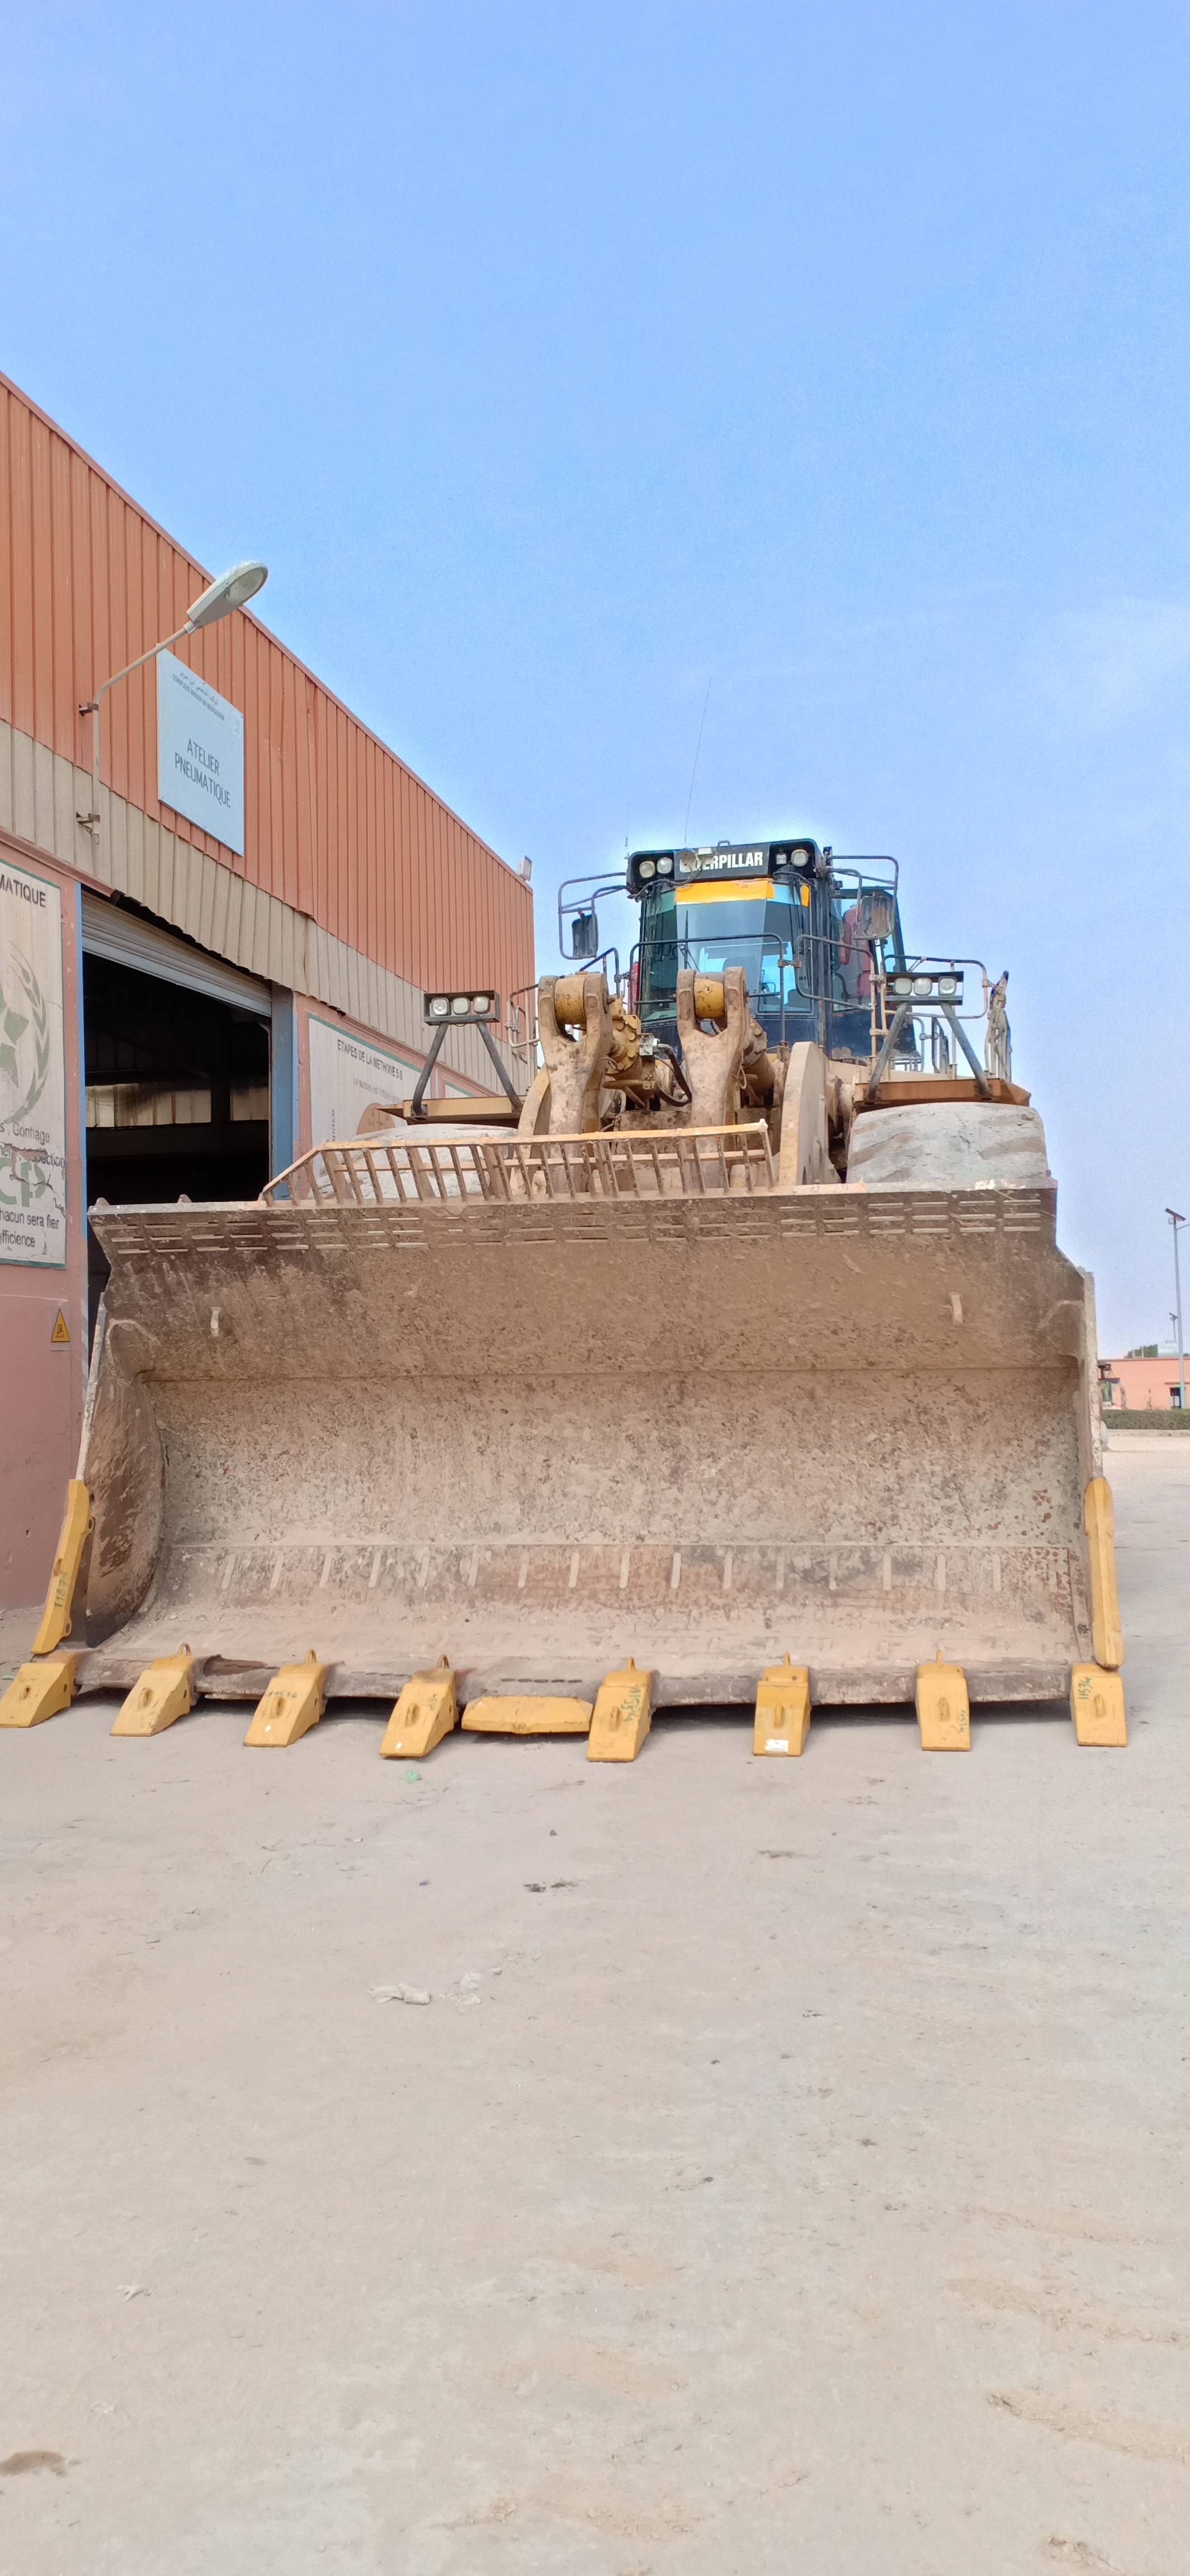chargeuse: (0, 785, 1137, 1787)
